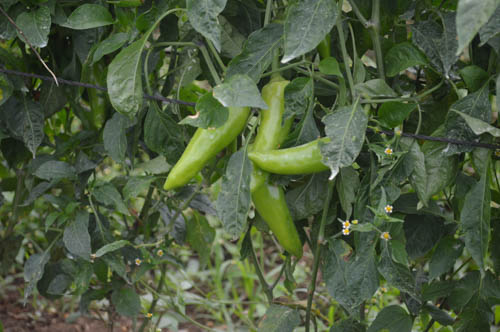ChiliPepper: (158, 75, 248, 199), (254, 81, 294, 190), (248, 139, 341, 181), (256, 173, 302, 250), (83, 56, 107, 129)
